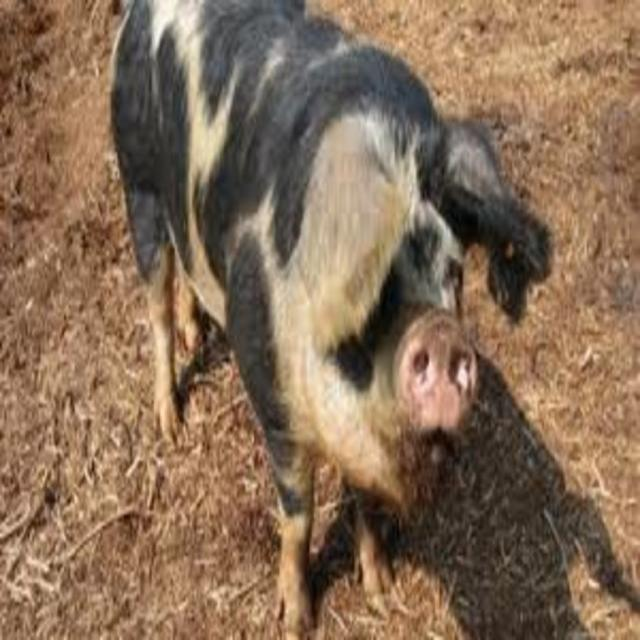Pig: (109, 0, 550, 636)
